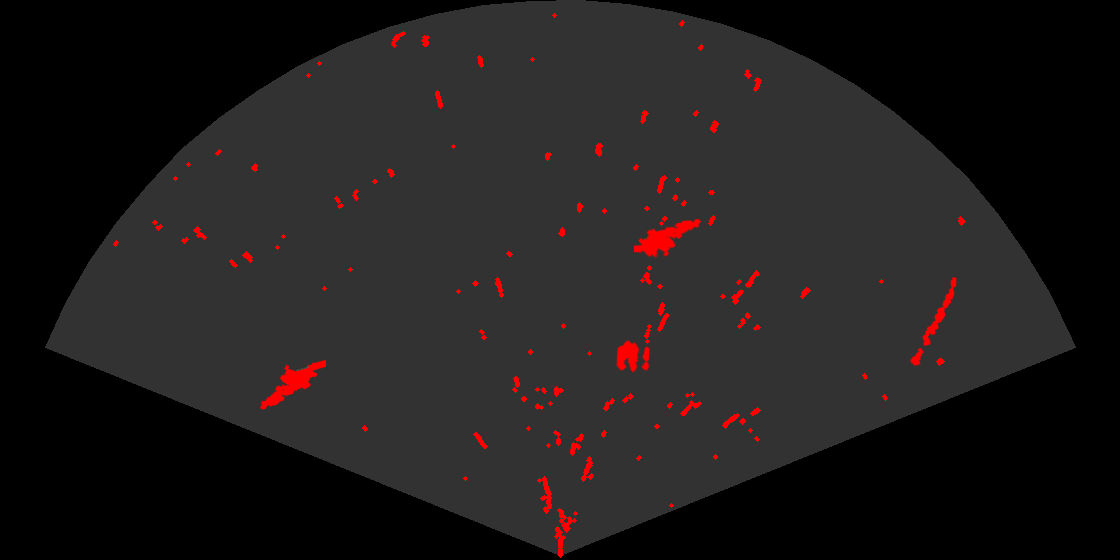ball: (615, 339, 652, 374)
chain: (909, 276, 958, 367)
frogman: (258, 358, 326, 411), (634, 217, 703, 259)
